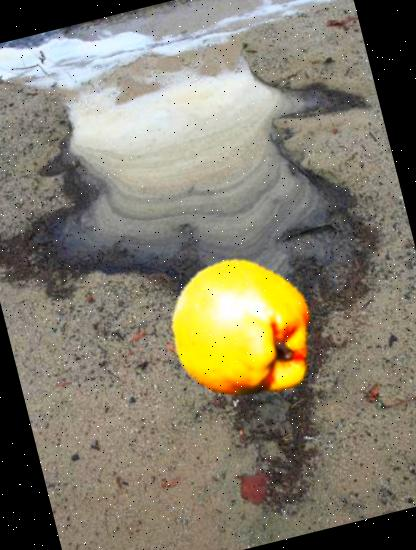Quince: (154, 242, 332, 420)
